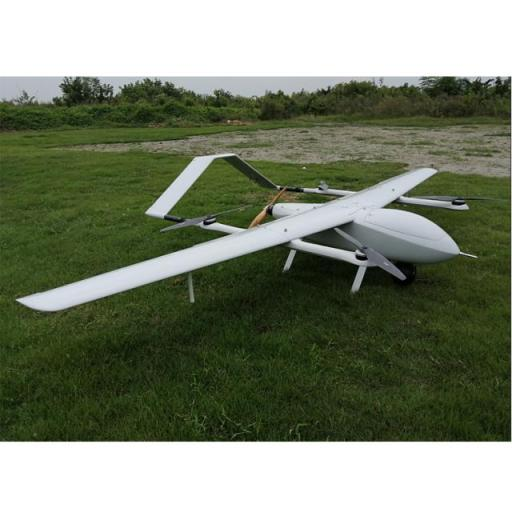uav: (25, 142, 490, 340)
